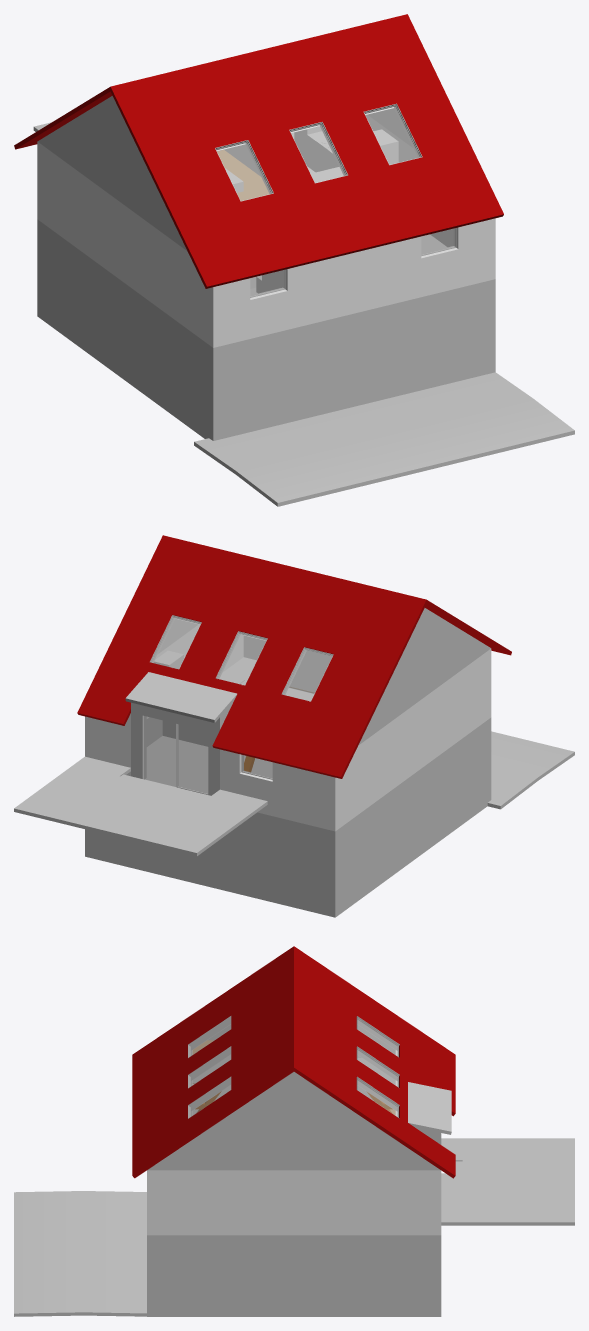
The model's file is Yogaraum_balken_v2.gltf.
The picture shows the model from 3 angles, top to bottom: view 1: azimuth 30°, elevation 25°; view 2: azimuth 150°, elevation 25°; view 3: azimuth 270°, elevation 25°; orthographic projection. The views are drawn at different scales.
Visible parts, largest first — view 1: Cut045, Wandunten, Wand, Solid001, Extrusion010, Solid058, Solid061, Solid055, Cut046, Cut042, Cut039, Solid067 (+2 smaller); view 2: Cut042, Wandunten, Wand, Cut024, Extrusion010, Boden001, Solid001, Solid019, Cut057, Solid040, Solid038, Solid046 (+7 smaller); view 3: Wandunten, Wand, Cut045, Solid001, Cut042, Extrusion005, Cut024, Solid019, Cut055.
Part boxes in pixels (<box>): Cut045: <box>110,14,503,288</box>; Wandunten: <box>37,219,495,440</box>; Wand: <box>37,115,495,347</box>; Solid001: <box>194,372,574,506</box>; Extrusion010: <box>37,96,187,250</box>; Solid058: <box>365,106,419,164</box>; Solid061: <box>291,124,345,182</box>; Solid055: <box>216,142,270,200</box>; Cut046: <box>217,150,268,200</box>; Cut042: <box>14,86,112,149</box>; Cut039: <box>307,131,338,172</box>; Solid067: <box>250,270,284,296</box>; Cut042: <box>77,535,427,778</box>; Wandunten: <box>85,717,491,917</box>; Wand: <box>85,625,491,831</box>; Cut024: <box>14,756,267,856</box>; Extrusion010: <box>358,608,490,745</box>; Boden001: <box>146,657,313,792</box>; Solid001: <box>487,731,574,809</box>; Solid019: <box>125,672,237,722</box>; Cut057: <box>131,702,223,795</box>; Solid040: <box>144,716,175,786</box>; Solid038: <box>178,724,208,793</box>; Solid046: <box>284,650,332,701</box>; Wandunten: <box>147,1235,441,1316</box>; Wand: <box>147,1058,441,1235</box>; Cut045: <box>132,946,295,1178</box>; Solid001: <box>14,1191,153,1316</box>; Cut042: <box>292,946,455,1178</box>; Extrusion005: <box>147,1072,440,1170</box>; Cut024: <box>441,1138,574,1225</box>; Solid019: <box>408,1082,451,1134</box>; Cut055: <box>190,1020,397,1111</box>.
Bounding box in the file's own units: 8 × 7.66 × 15.62.
